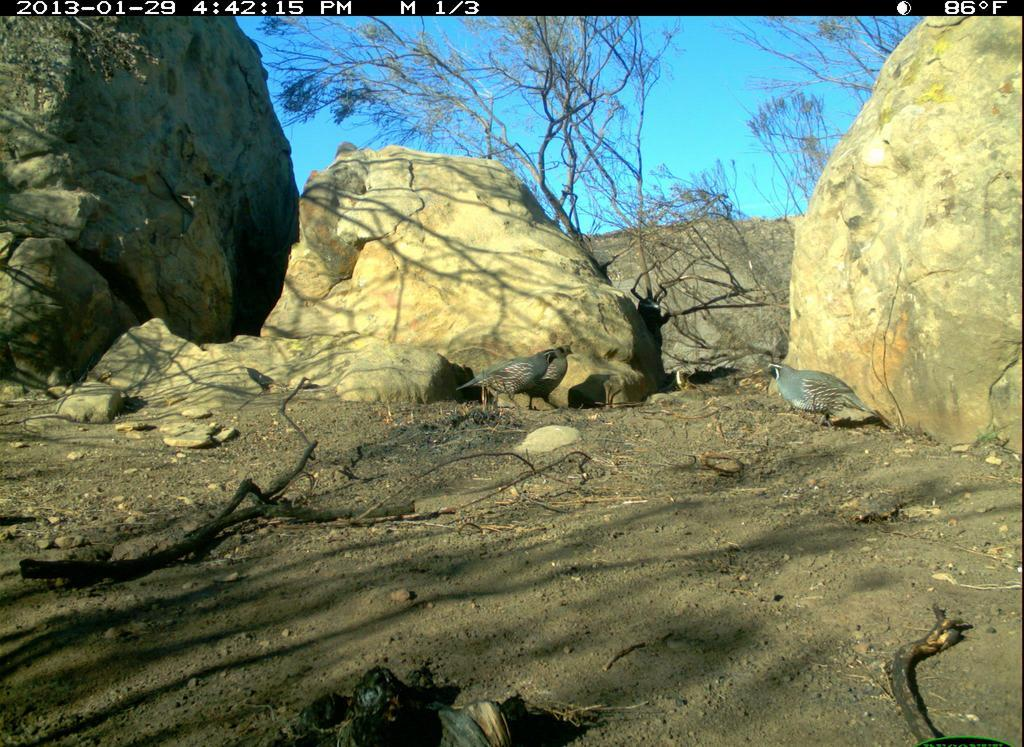bird: (747, 352, 882, 440), (452, 338, 597, 417)
